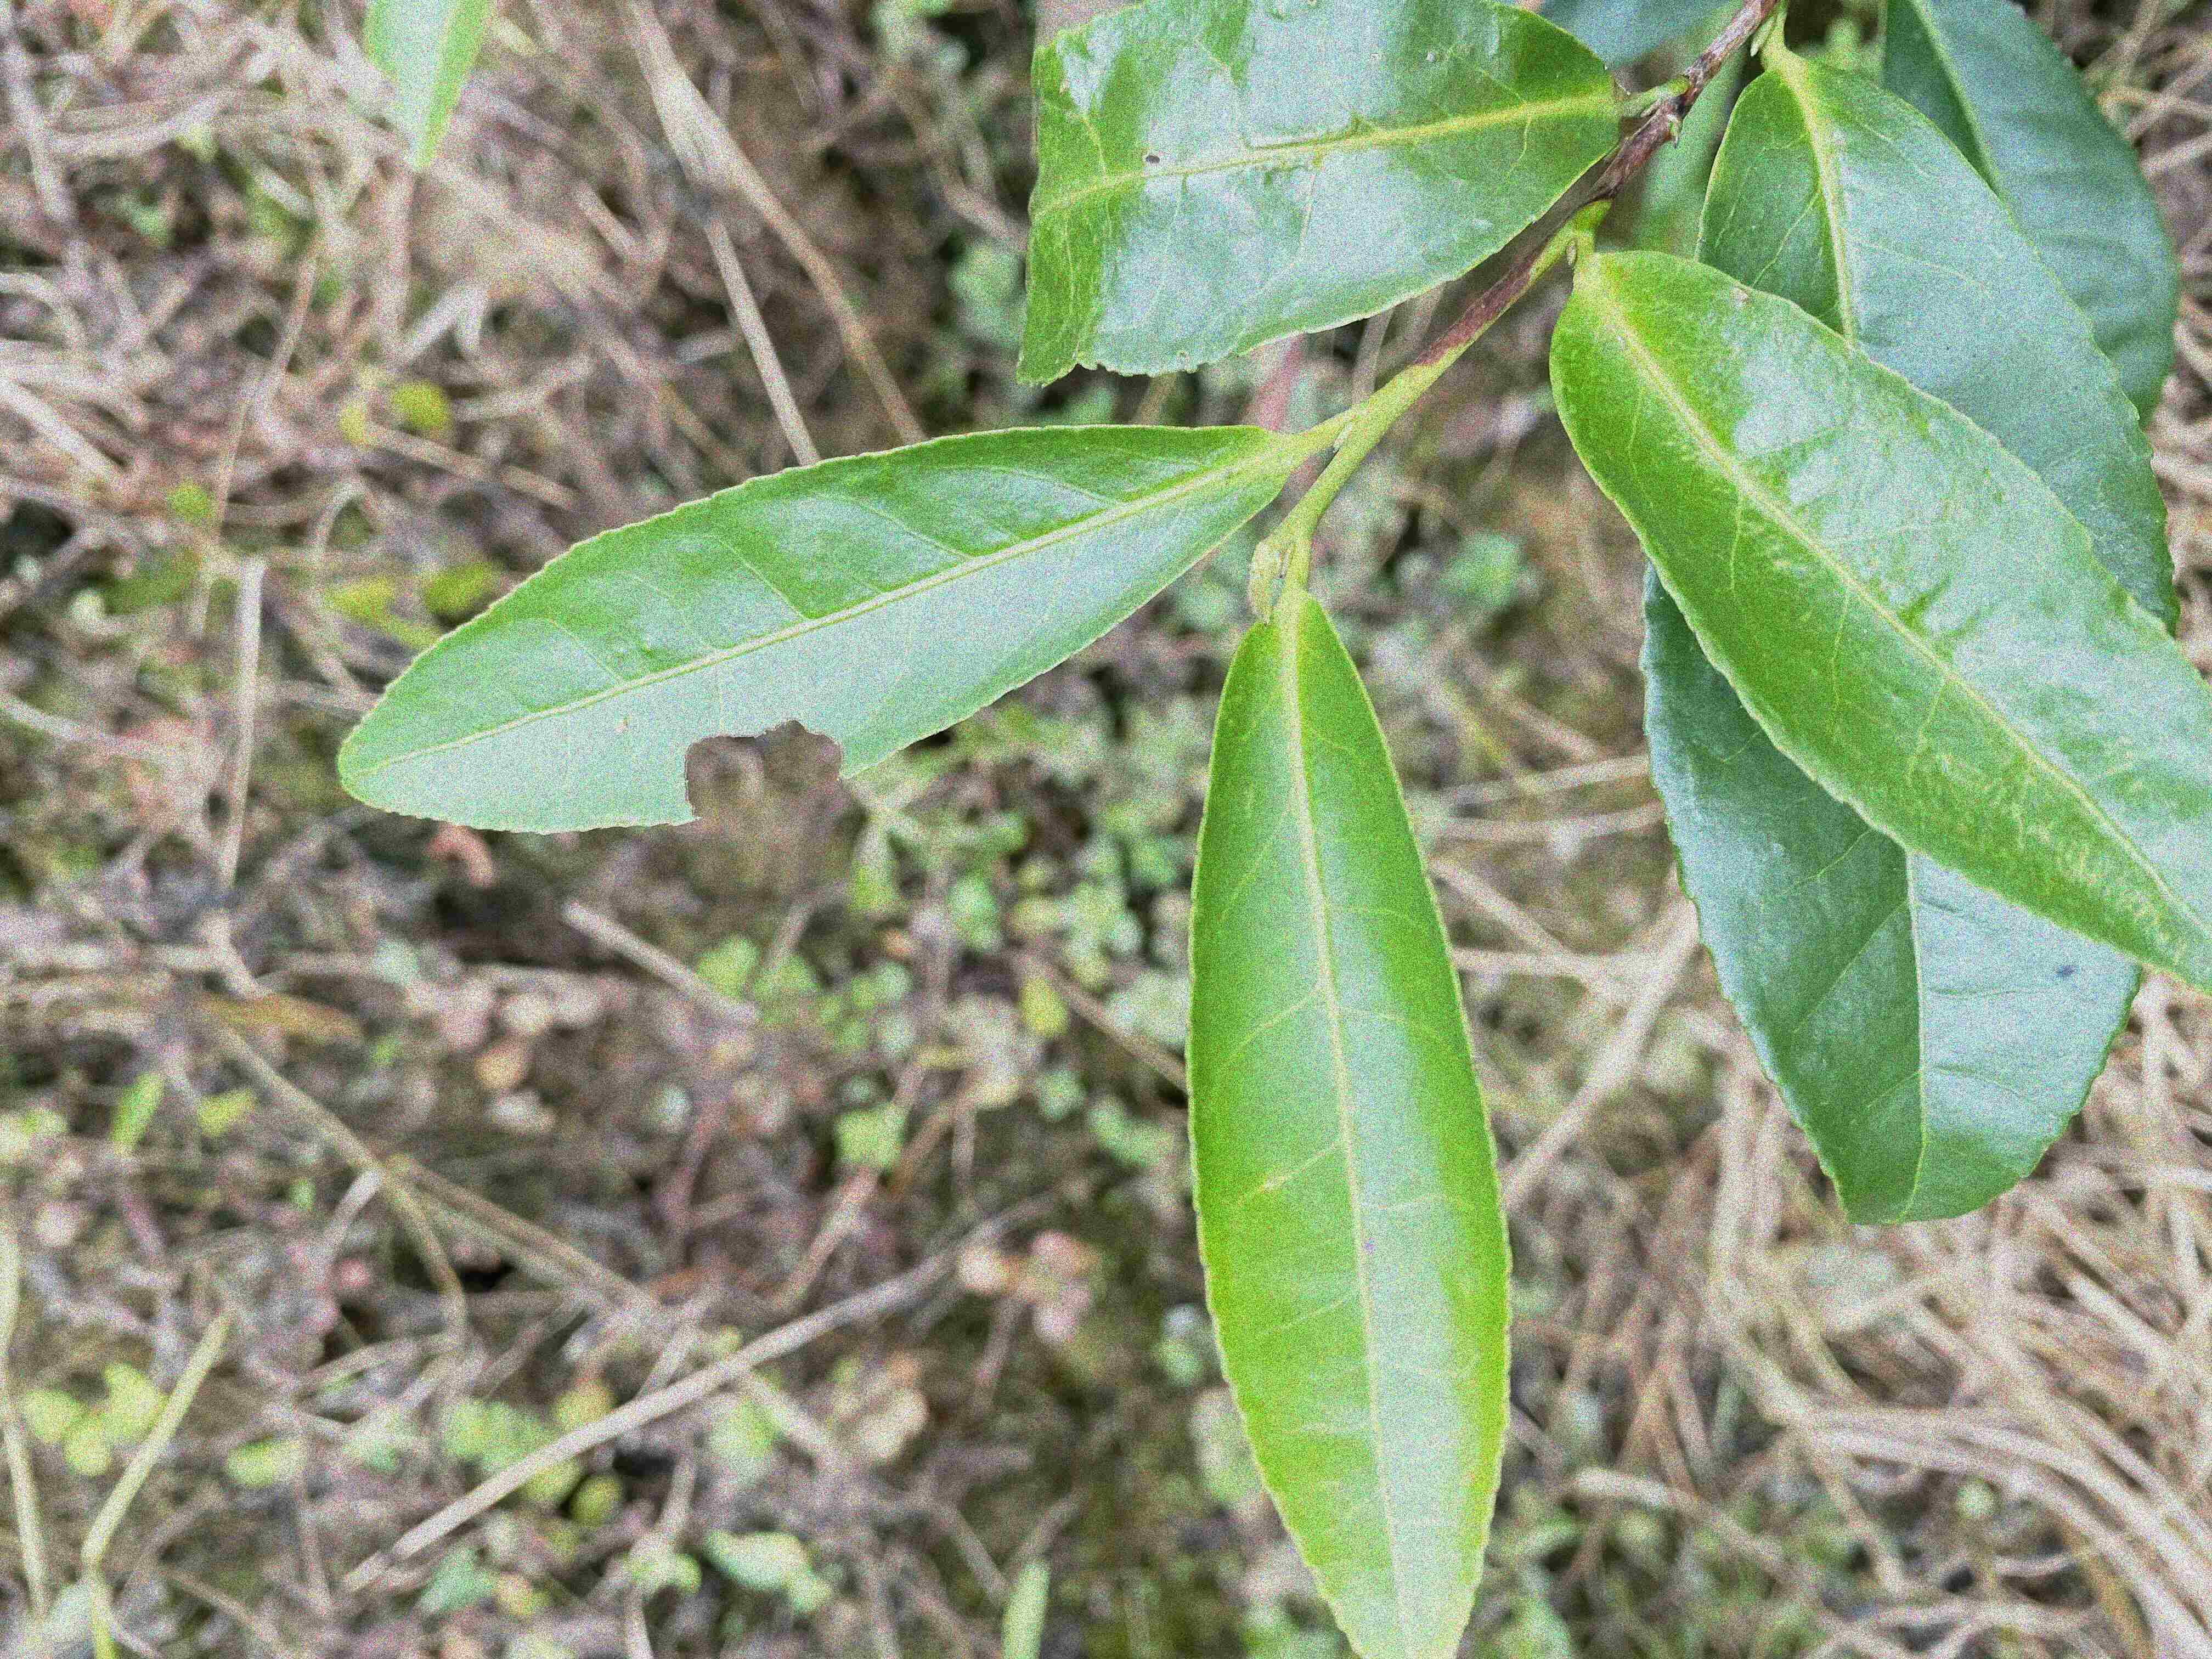chihuo_low: (338, 420, 1294, 838)
healthy: (1183, 587, 1515, 1657)
